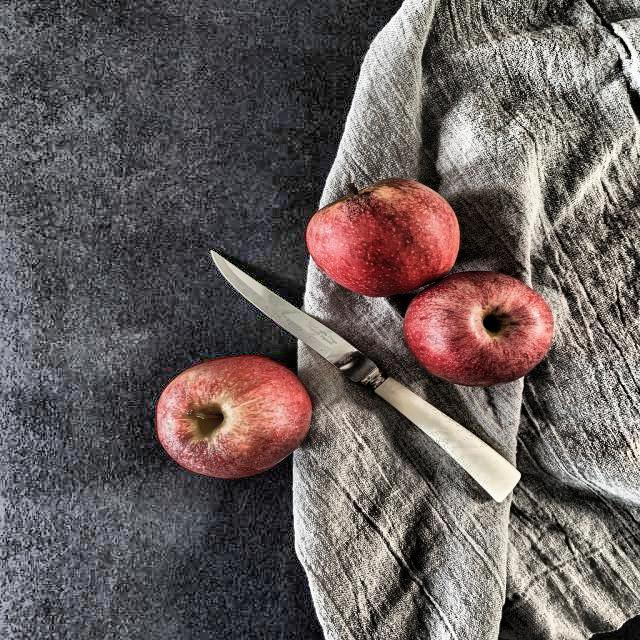knife: (206, 250, 525, 508)
